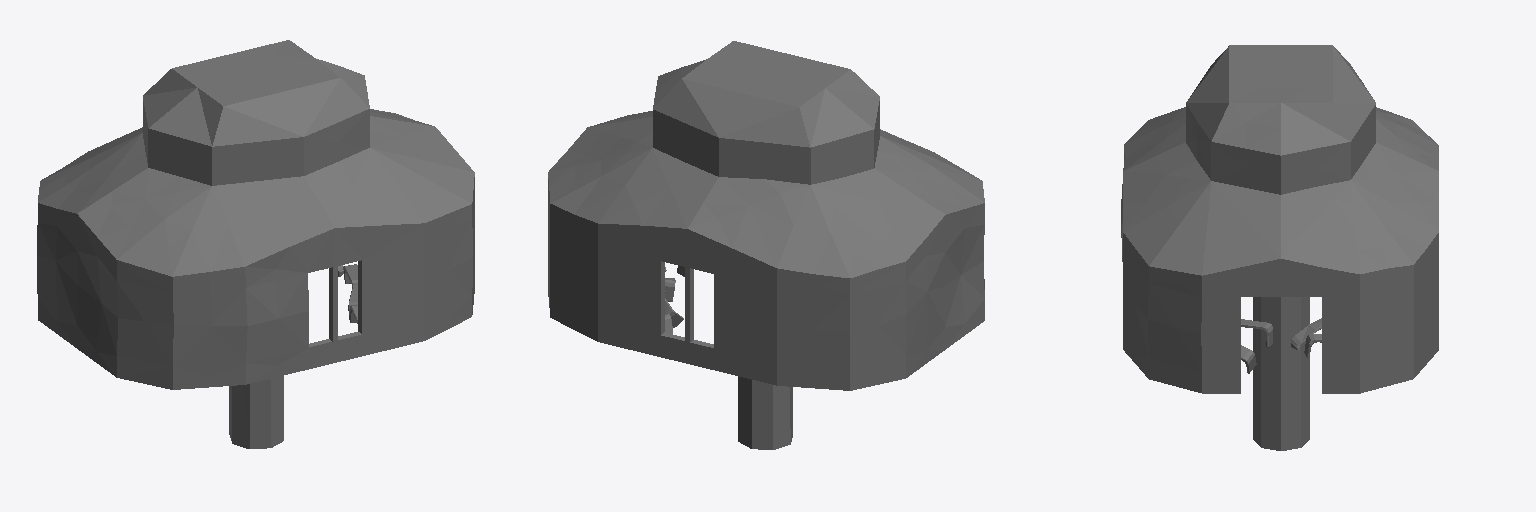
Rendered from Building.obj.
3 views of the same model, side by side, from view 1: azimuth 30°, elevation 25°; view 2: azimuth 150°, elevation 25°; view 3: azimuth 270°, elevation 25° (orthographic).
Visible parts, largest first — view 1: pCube14, pCylinder1; view 2: pCube14, pCylinder1; view 3: pCube14, pCylinder1.
Boxes of the visible parts, x1=… form: pCube14: x1=37, y1=40, x2=474, y2=389; pCylinder1: x1=229, y1=376, x2=283, y2=448; pCube14: x1=548, y1=41, x2=984, y2=390; pCylinder1: x1=738, y1=376, x2=792, y2=449; pCube14: x1=1121, y1=45, x2=1438, y2=393; pCylinder1: x1=1253, y1=297, x2=1309, y2=450.
Size of the model in its own units: 1333 by 1293 by 1022.